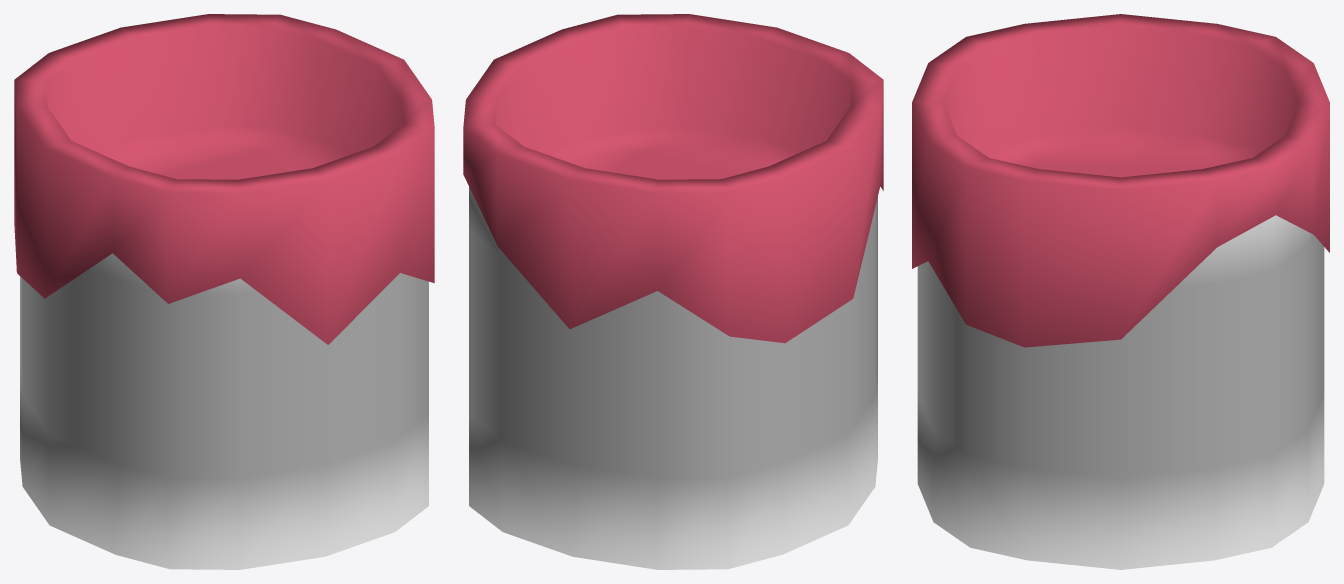
The model's file is Paintcan.fbx.
3 renders of one model, left to right at view 1: azimuth 30°, elevation 25°; view 2: azimuth 150°, elevation 25°; view 3: azimuth 270°, elevation 25°, orthographic.
Parts seen in each view (by area): view 1: Cube.001, Cube; view 2: Cube.001, Cube; view 3: Cube.001, Cube.
Boxes of the visible parts, box(x1,y1,x2,y2) form: Cube.001: box(14, 14, 434, 344); Cube: box(20, 253, 428, 569); Cube.001: box(463, 14, 883, 343); Cube: box(469, 187, 877, 569); Cube.001: box(912, 14, 1329, 347); Cube: box(917, 215, 1324, 569).
Size of the model in its own units: 2.06 by 2.07 by 2.06.
